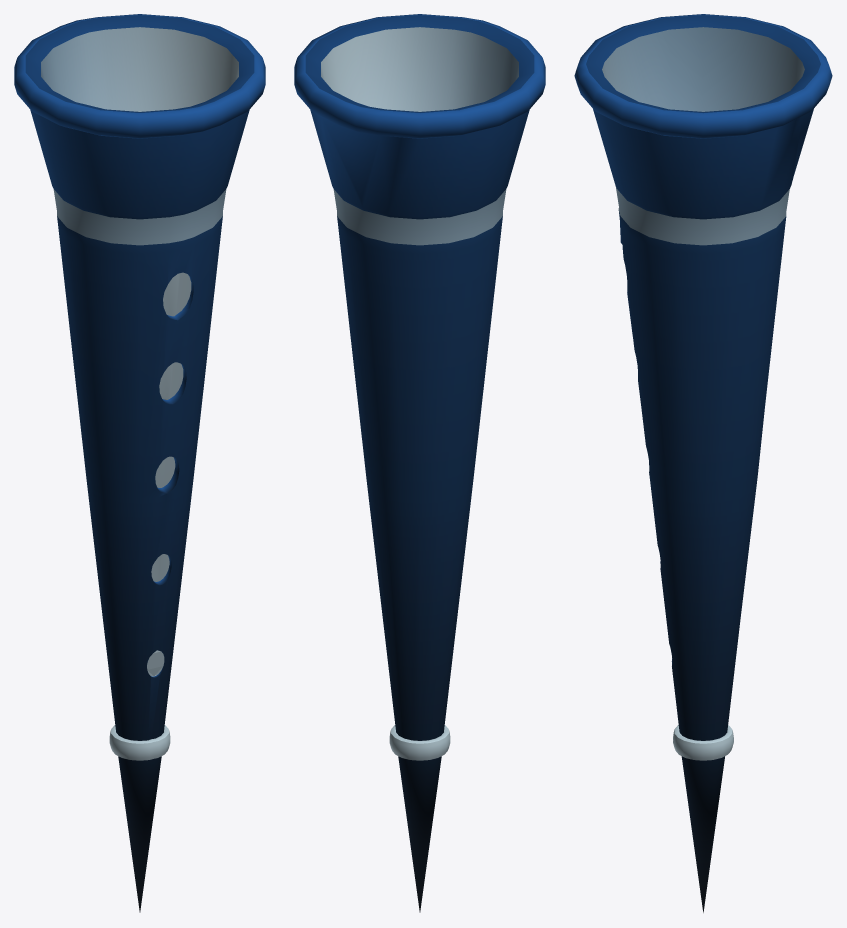
File: Clarinet.FBX
The picture shows the model from 3 angles, left to right: view 1: azimuth 30°, elevation 25°; view 2: azimuth 150°, elevation 25°; view 3: azimuth 270°, elevation 25°; orthographic projection.
Parts seen in each view (by area): view 1: Cylinder001; view 2: Cylinder001; view 3: Cylinder001.
Boxes of the visible parts, box(x1,y1,x2,y2) form: Cylinder001: box(14, 14, 265, 912); Cylinder001: box(294, 14, 545, 912); Cylinder001: box(574, 14, 832, 912).
Bounding box in the file's own units: 28.16 × 104 × 28.51.
2 materials, 2 textured.
